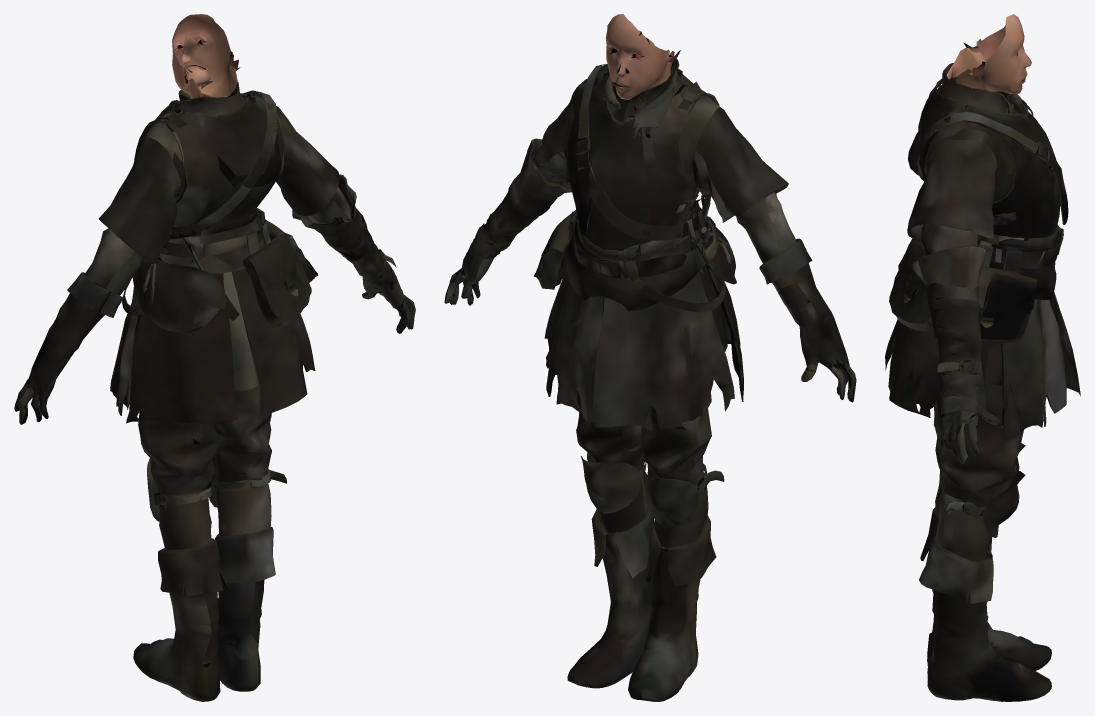
The picture shows the model from 3 angles, left to right: view 1: azimuth 30°, elevation 25°; view 2: azimuth 150°, elevation 25°; view 3: azimuth 270°, elevation 25°; orthographic projection. The views are drawn at different scales.
Visible parts, largest first — view 1: mesh_0; view 2: mesh_0; view 3: mesh_0.
Boxes of the visible parts, x1,y1,x2,y2 form: mesh_0: [14, 14, 415, 701]; mesh_0: [444, 14, 856, 701]; mesh_0: [885, 14, 1080, 701].
Bounding box in the file's own units: 43.22 × 68.32 × 18.09.
Materials: 1 (1 with a texture image).
